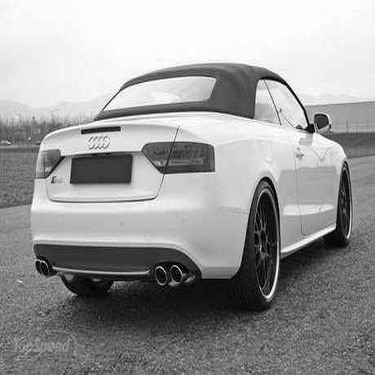car: (22, 55, 367, 320)
